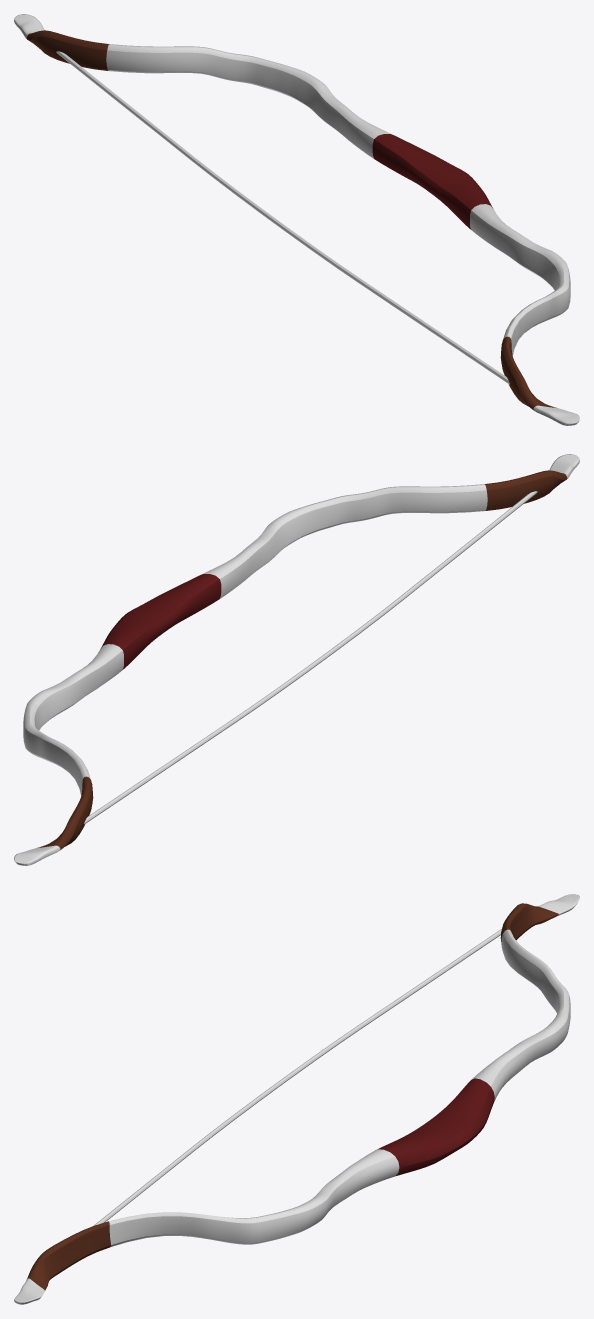
Rendered from janissaryBow.fbx.
The picture shows the model from 3 angles, top to bottom: view 1: azimuth 30°, elevation 25°; view 2: azimuth 150°, elevation 25°; view 3: azimuth 330°, elevation 25°; orthographic projection.
Visible parts, largest first — view 1: BOW; view 2: BOW; view 3: BOW.
Boxes of the visible parts, x1=… form: BOW: x1=14, y1=14, x2=579, y2=425; BOW: x1=14, y1=454, x2=579, y2=865; BOW: x1=14, y1=894, x2=579, y2=1304.
Bounding box in the file's own units: 71.73 × 14.1 × 351.
